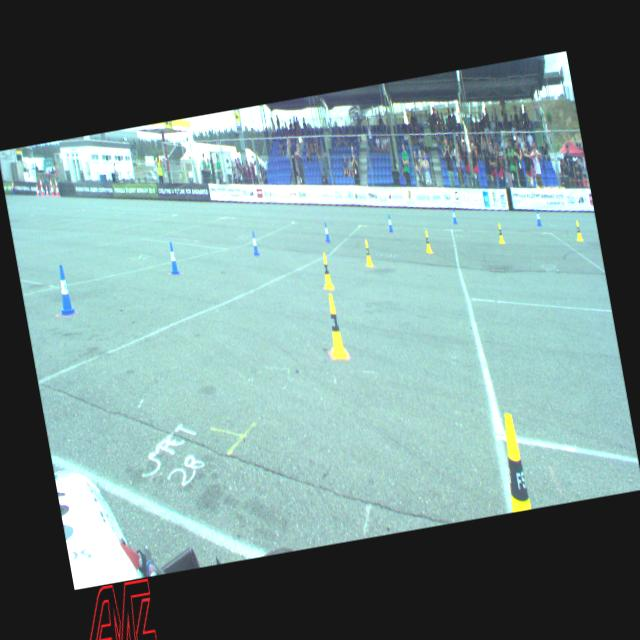blue_cone: (54, 264, 74, 315), (166, 240, 179, 274), (249, 230, 259, 256), (322, 222, 330, 242), (534, 208, 542, 226), (450, 208, 457, 224), (386, 214, 392, 232), (48, 187, 52, 194), (38, 188, 41, 195), (54, 187, 56, 195)
large_orange_cone: (54, 177, 60, 196), (38, 177, 44, 195), (49, 178, 54, 195), (34, 183, 38, 196), (44, 183, 48, 196)
orange_cone: (12, 180, 14, 189)
yellow_cone: (496, 412, 530, 512), (320, 292, 348, 361), (319, 252, 333, 290), (362, 239, 373, 267), (423, 229, 432, 253), (574, 220, 583, 242), (496, 222, 504, 244)
